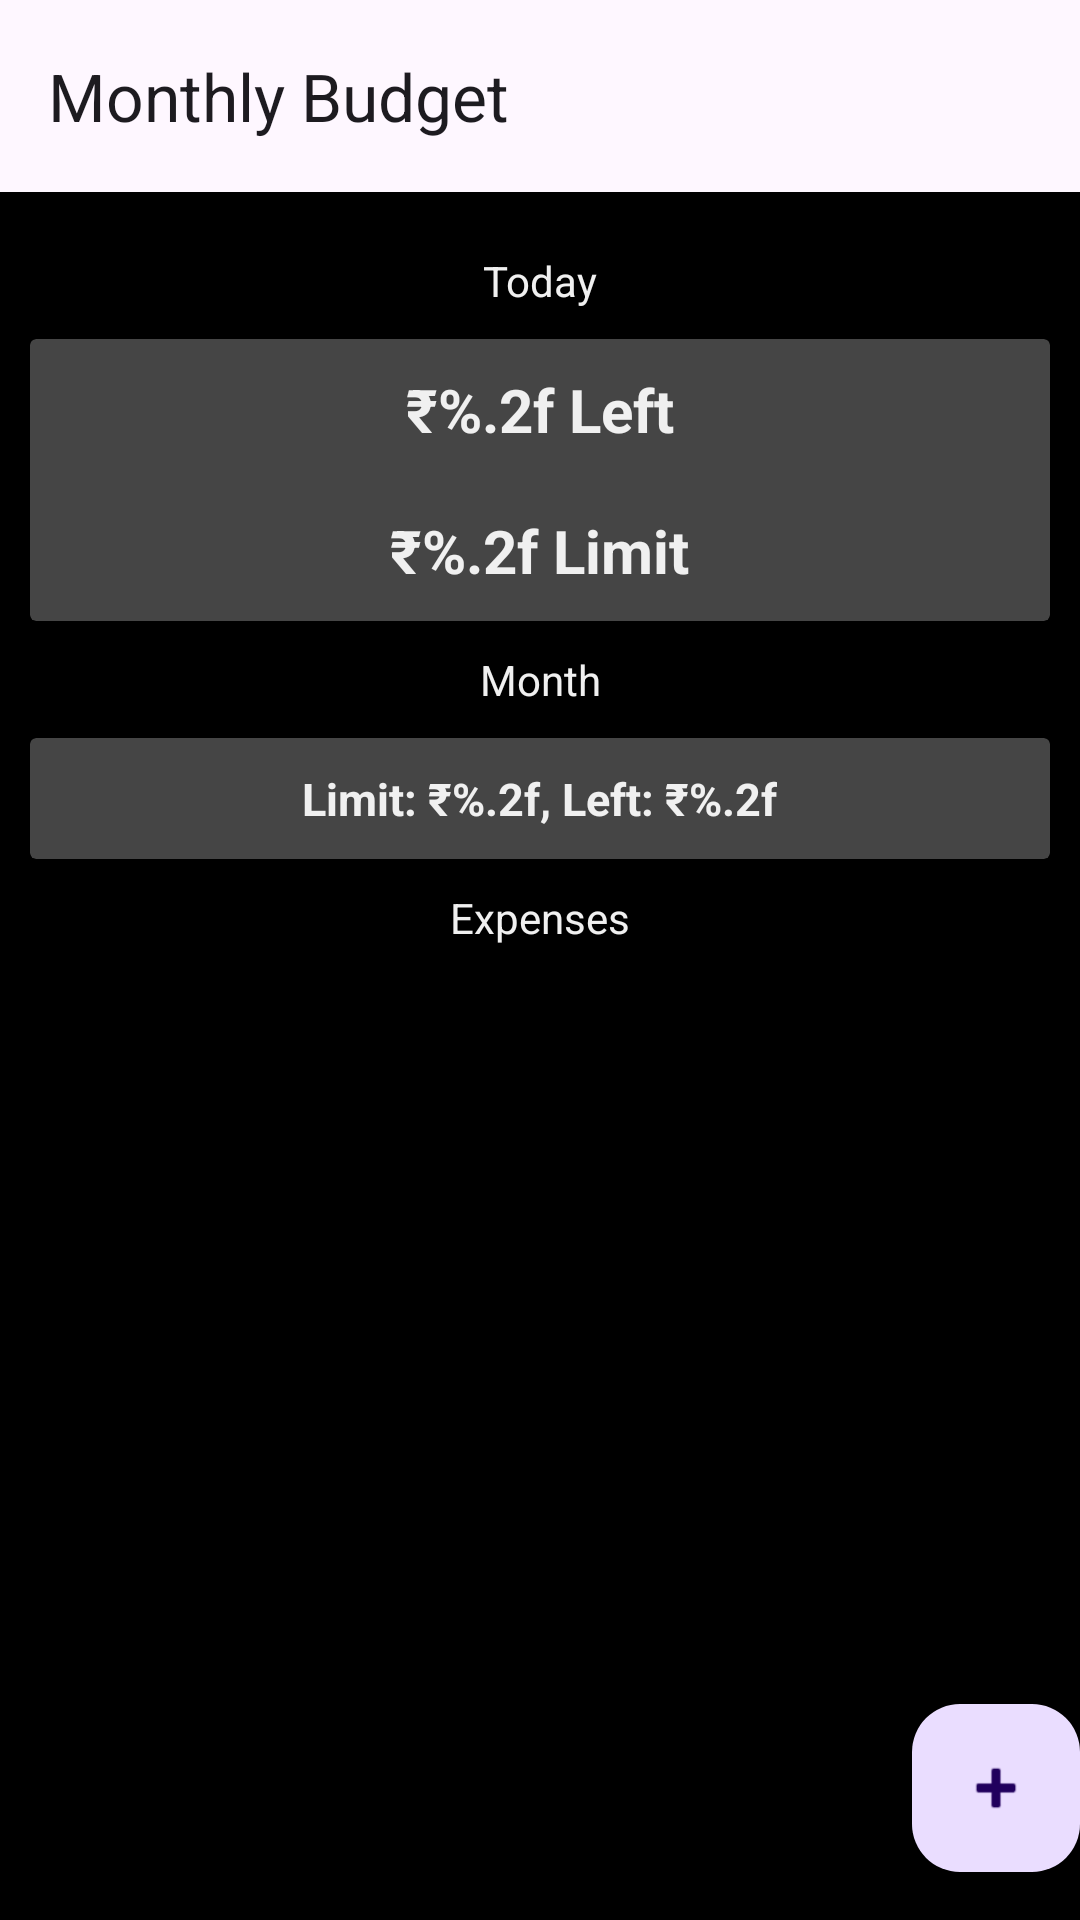

Named icons in this screenshot (1080×1920) and their centers, [x,y]:
Add New Expense Button: [996,1788]
